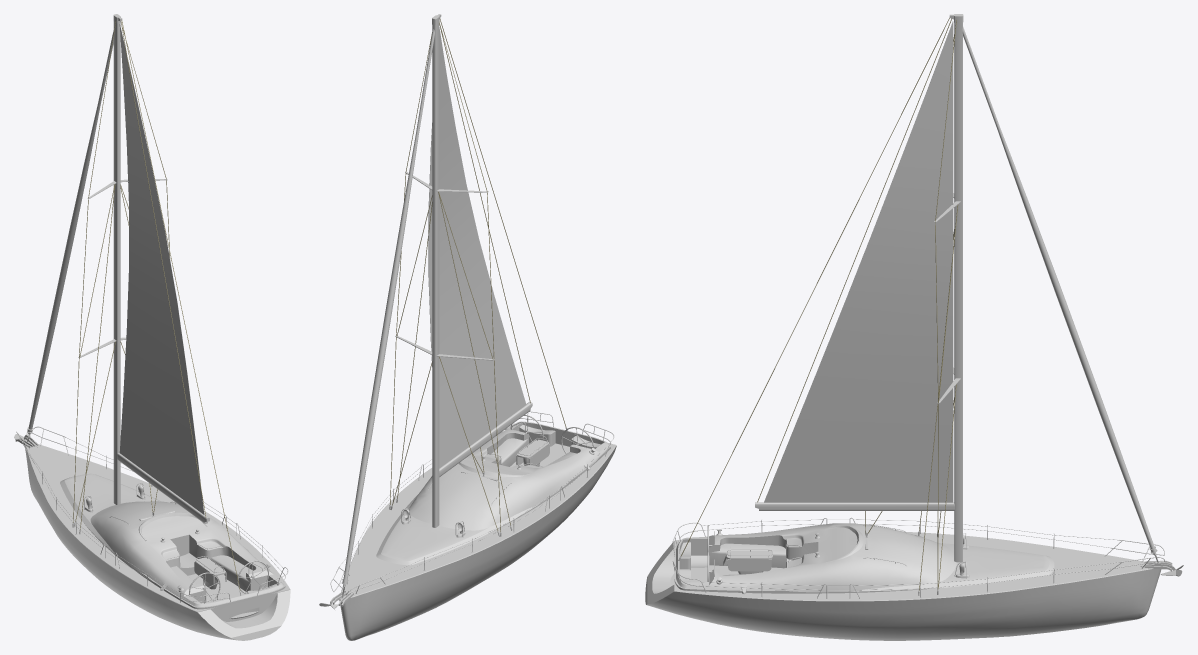
The model's file is SY+Serendipity.fbx.
The picture shows the model from 3 angles, left to right: view 1: azimuth 30°, elevation 25°; view 2: azimuth 150°, elevation 25°; view 3: azimuth 270°, elevation 25°; orthographic projection. The views are drawn at different scales.
Parts seen in each view (by area): view 1: SY+Serendipity, SY+Serendipity.004, SY+Serendipity.001, SY+Serendipity.005; view 2: SY+Serendipity, SY+Serendipity.004, SY+Serendipity.001, SY+Serendipity.005; view 3: SY+Serendipity, SY+Serendipity.004, SY+Serendipity.005, SY+Serendipity.001.
Part boxes in pixels (x1=…): SY+Serendipity: x1=14, y1=14, x2=290, y2=640; SY+Serendipity.004: x1=119, y1=23, x2=204, y2=514; SY+Serendipity.001: x1=73, y1=20, x2=240, y2=590; SY+Serendipity.005: x1=16, y1=426, x2=288, y2=603; SY+Serendipity: x1=319, y1=14, x2=616, y2=640; SY+Serendipity.004: x1=428, y1=27, x2=526, y2=468; SY+Serendipity.001: x1=390, y1=18, x2=566, y2=531; SY+Serendipity.005: x1=330, y1=411, x2=614, y2=595; SY+Serendipity: x1=645, y1=14, x2=1183, y2=640; SY+Serendipity.004: x1=764, y1=21, x2=953, y2=502; SY+Serendipity.005: x1=672, y1=517, x2=1164, y2=598; SY+Serendipity.001: x1=681, y1=18, x2=958, y2=590.
Bounding box in the file's own units: 4.72 × 19.16 × 15.2.
